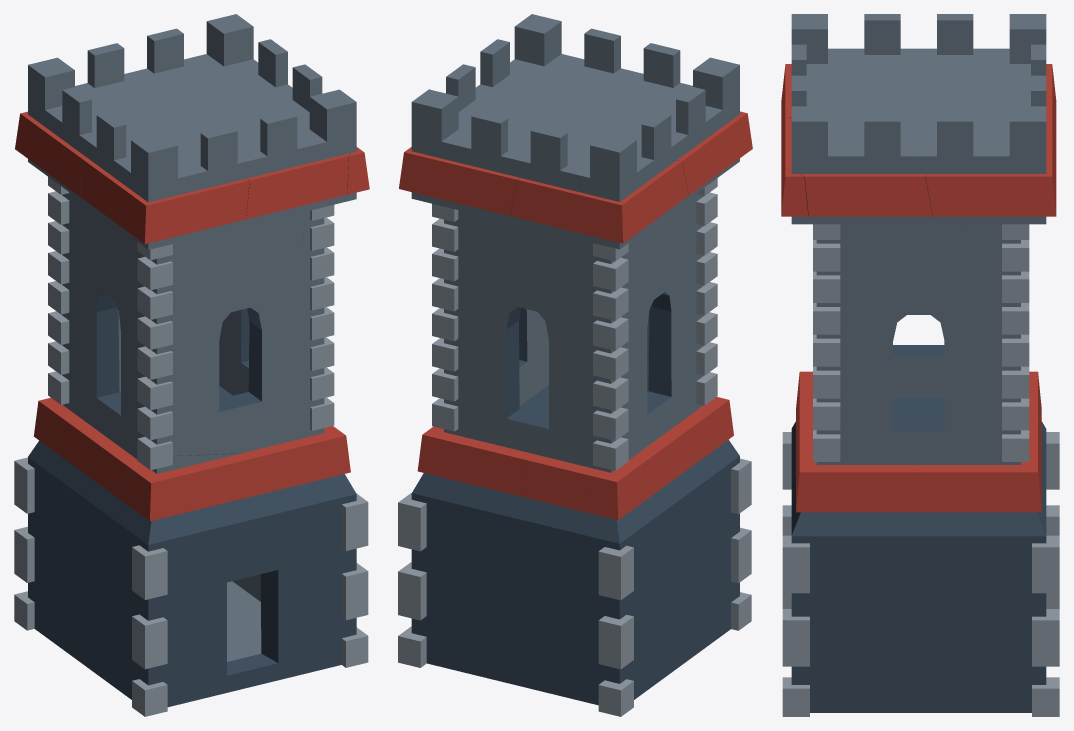
File: tower.fbx
3 renders of one model, left to right at view 1: azimuth 30°, elevation 25°; view 2: azimuth 150°, elevation 25°; view 3: azimuth 270°, elevation 25°, orthographic. The views are drawn at different scales.
Parts seen in each view (by area): view 1: Cube.163_cell.009, Cube.163_cell.001, Cube.163_cell, Cube.106_cell.004, Cube.163_cell.006, tower, Cube.106_cell.008, Cube.106_cell.005, Cube.163_cell.002, Cube.015_cell.003, Cube.106_cell, Cube.106_cell.009 (+18 smaller); view 2: Cube.163_cell.001, Cube.163_cell.009, Cube.163_cell.007, Cube.163_cell.002, Cube.106_cell, Cube.106_cell.010, Cube.106_cell.003, Cube.163_cell.011, tower, Cube.015_cell, Cube.106_cell.002, Cube.106_cell.004 (+16 smaller); view 3: Cube.163_cell.006, Cube.106_cell.010, Cube.163_cell.011, Cube.163_cell.001, Cube.163_cell.009, Cube.106_cell.001, Cube.106_cell.008, Cube.106_cell.002, Cube.015_cell.002, Cube.015_cell.004, Cube.016_cell.005, Cube.016_cell.003 (+15 smaller).
Part boxes in pixels (x1,y1,x2,y2): Cube.163_cell.009: (87, 64, 356, 298); Cube.163_cell.001: (28, 14, 292, 228); Cube.163_cell: (137, 232, 303, 470); Cube.106_cell.004: (84, 479, 247, 612); Cube.163_cell.006: (237, 198, 356, 448); tower: (74, 574, 202, 716); Cube.106_cell.008: (244, 474, 368, 561); Cube.106_cell.005: (219, 557, 332, 683); Cube.163_cell.002: (48, 281, 240, 473); Cube.015_cell.003: (80, 156, 249, 243); Cube.106_cell: (14, 440, 89, 587); Cube.106_cell.009: (177, 583, 265, 698); Cube.163_cell.001: (411, 64, 682, 293); Cube.163_cell.009: (475, 14, 739, 236); Cube.163_cell.007: (411, 192, 628, 381); Cube.163_cell.002: (482, 347, 702, 472); Cube.106_cell: (518, 505, 681, 629); Cube.106_cell.010: (398, 473, 522, 630); Cube.106_cell.003: (517, 604, 668, 716); Cube.163_cell.011: (432, 248, 519, 441); tower: (666, 524, 751, 676); Cube.015_cell: (510, 160, 688, 243); Cube.106_cell.002: (398, 597, 519, 685); Cube.106_cell.004: (669, 439, 751, 569); Cube.163_cell.006: (791, 172, 962, 464); Cube.106_cell.010: (878, 484, 1059, 666); Cube.163_cell.011: (893, 225, 1029, 464); Cube.163_cell.001: (913, 14, 1046, 173); Cube.163_cell.009: (791, 14, 918, 221); Cube.106_cell.001: (782, 593, 915, 716); Cube.106_cell.008: (782, 471, 922, 606); Cube.106_cell.002: (909, 641, 1059, 716); Cube.015_cell.002: (926, 118, 1056, 216); Cube.015_cell.004: (781, 117, 932, 216); Cube.016_cell.005: (796, 422, 916, 512); Cube.016_cell.003: (914, 420, 1040, 506).
Bounding box in the file's own units: 2.38 × 5.65 × 2.41.
